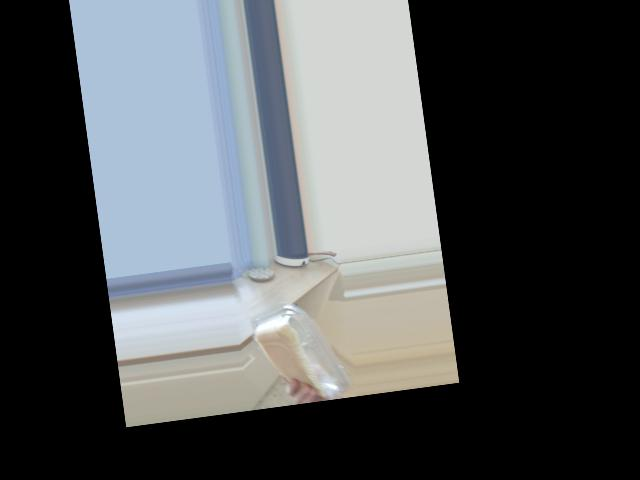cheese: (262, 307, 331, 370)
